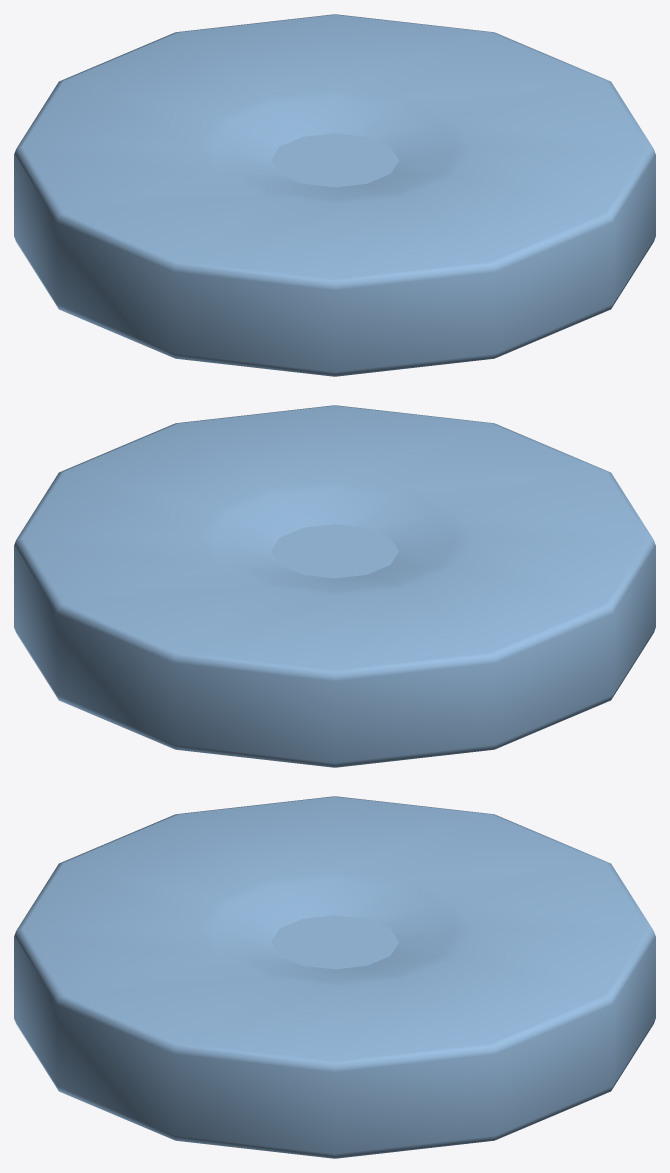
File: PSKbarPillow.FBX
3 views of the same model, one above another, from view 1: azimuth 30°, elevation 25°; view 2: azimuth 150°, elevation 25°; view 3: azimuth 270°, elevation 25° (orthographic).
Parts seen in each view (by area): view 1: PSKbarPillow; view 2: PSKbarPillow; view 3: PSKbarPillow.
Boxes of the visible parts, left/top/right/bottom form: PSKbarPillow: left=14, top=14, right=655, bottom=376; PSKbarPillow: left=14, top=405, right=655, bottom=767; PSKbarPillow: left=14, top=796, right=655, bottom=1158.
Size of the model in its own units: 1.5 by 0.25 by 1.5.
